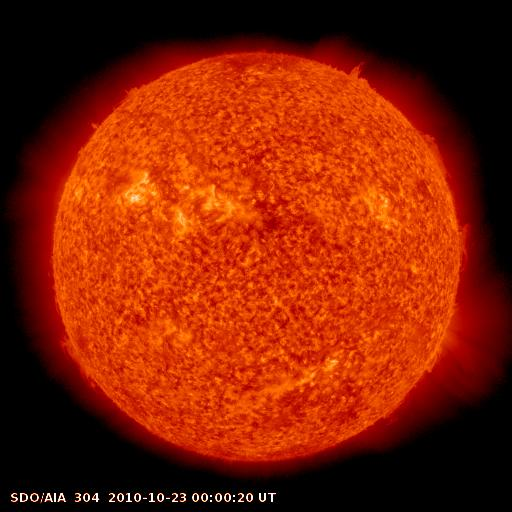prominence: (51, 325, 107, 394), (446, 217, 488, 285), (415, 123, 454, 185), (338, 48, 381, 100), (109, 69, 162, 109), (411, 342, 451, 384)
